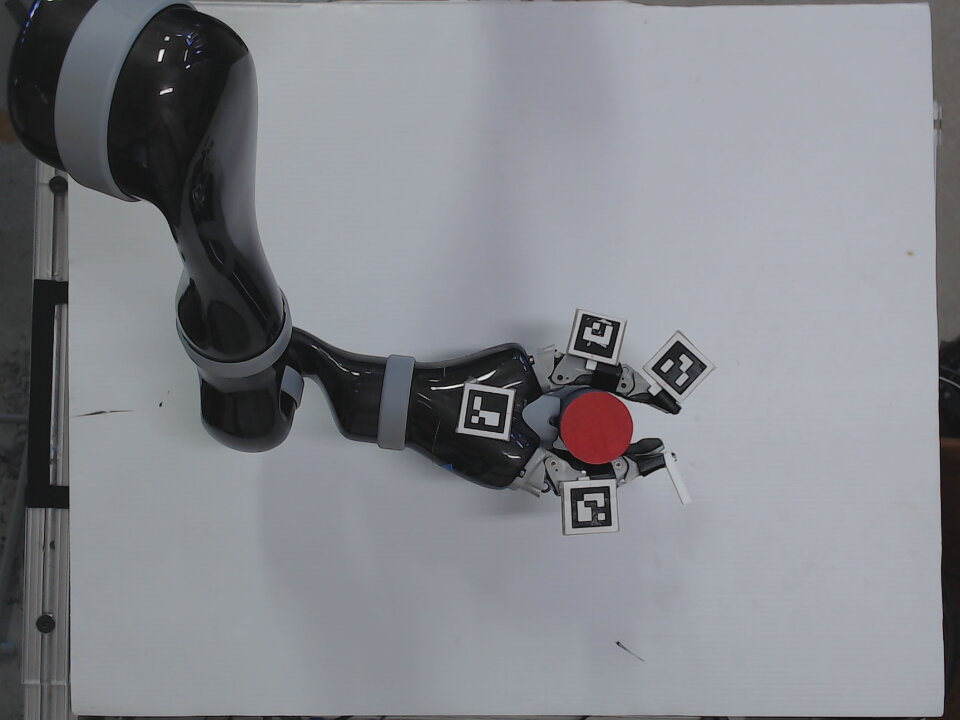cylinder: (554, 386, 638, 468)
